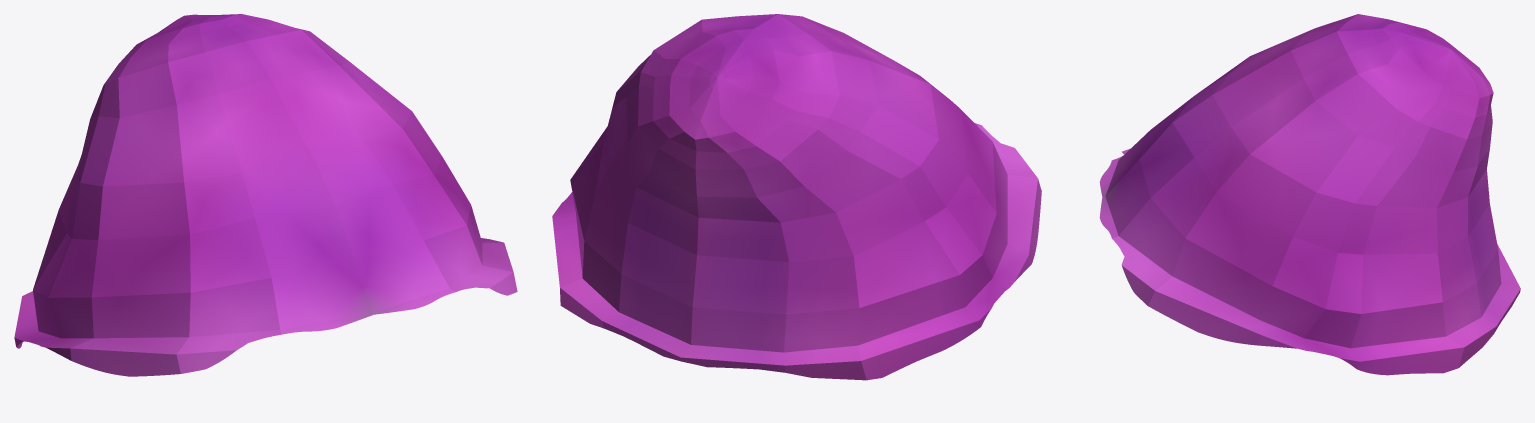
The model's file is basicbeanie.fbx.
3 views of the same model, side by side, from view 1: azimuth 30°, elevation 25°; view 2: azimuth 150°, elevation 25°; view 3: azimuth 270°, elevation 25° (orthographic). The views are drawn at different scales.
Parts seen in each view (by area): view 1: basicbeanie; view 2: basicbeanie; view 3: basicbeanie.
Part boxes in pixels (x1=…): basicbeanie: x1=14, y1=14, x2=517, y2=376; basicbeanie: x1=552, y1=14, x2=1041, y2=380; basicbeanie: x1=1099, y1=14, x2=1520, y2=375.
Bounding box in the file's own units: 30.58 × 21.87 × 28.67.
